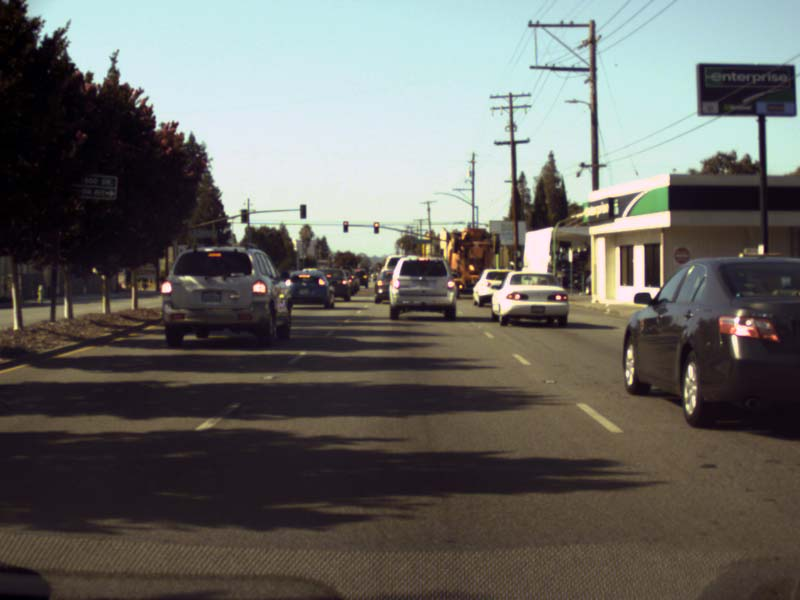Red: (342, 221, 348, 232), (374, 221, 379, 233)
